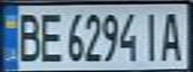2: (81, 9, 103, 63)
4: (118, 9, 142, 62)
6: (63, 8, 84, 63)
9: (100, 9, 121, 63)
A: (157, 7, 187, 62)
B: (12, 9, 42, 63)
E: (36, 8, 63, 63)
I: (139, 8, 163, 62)
